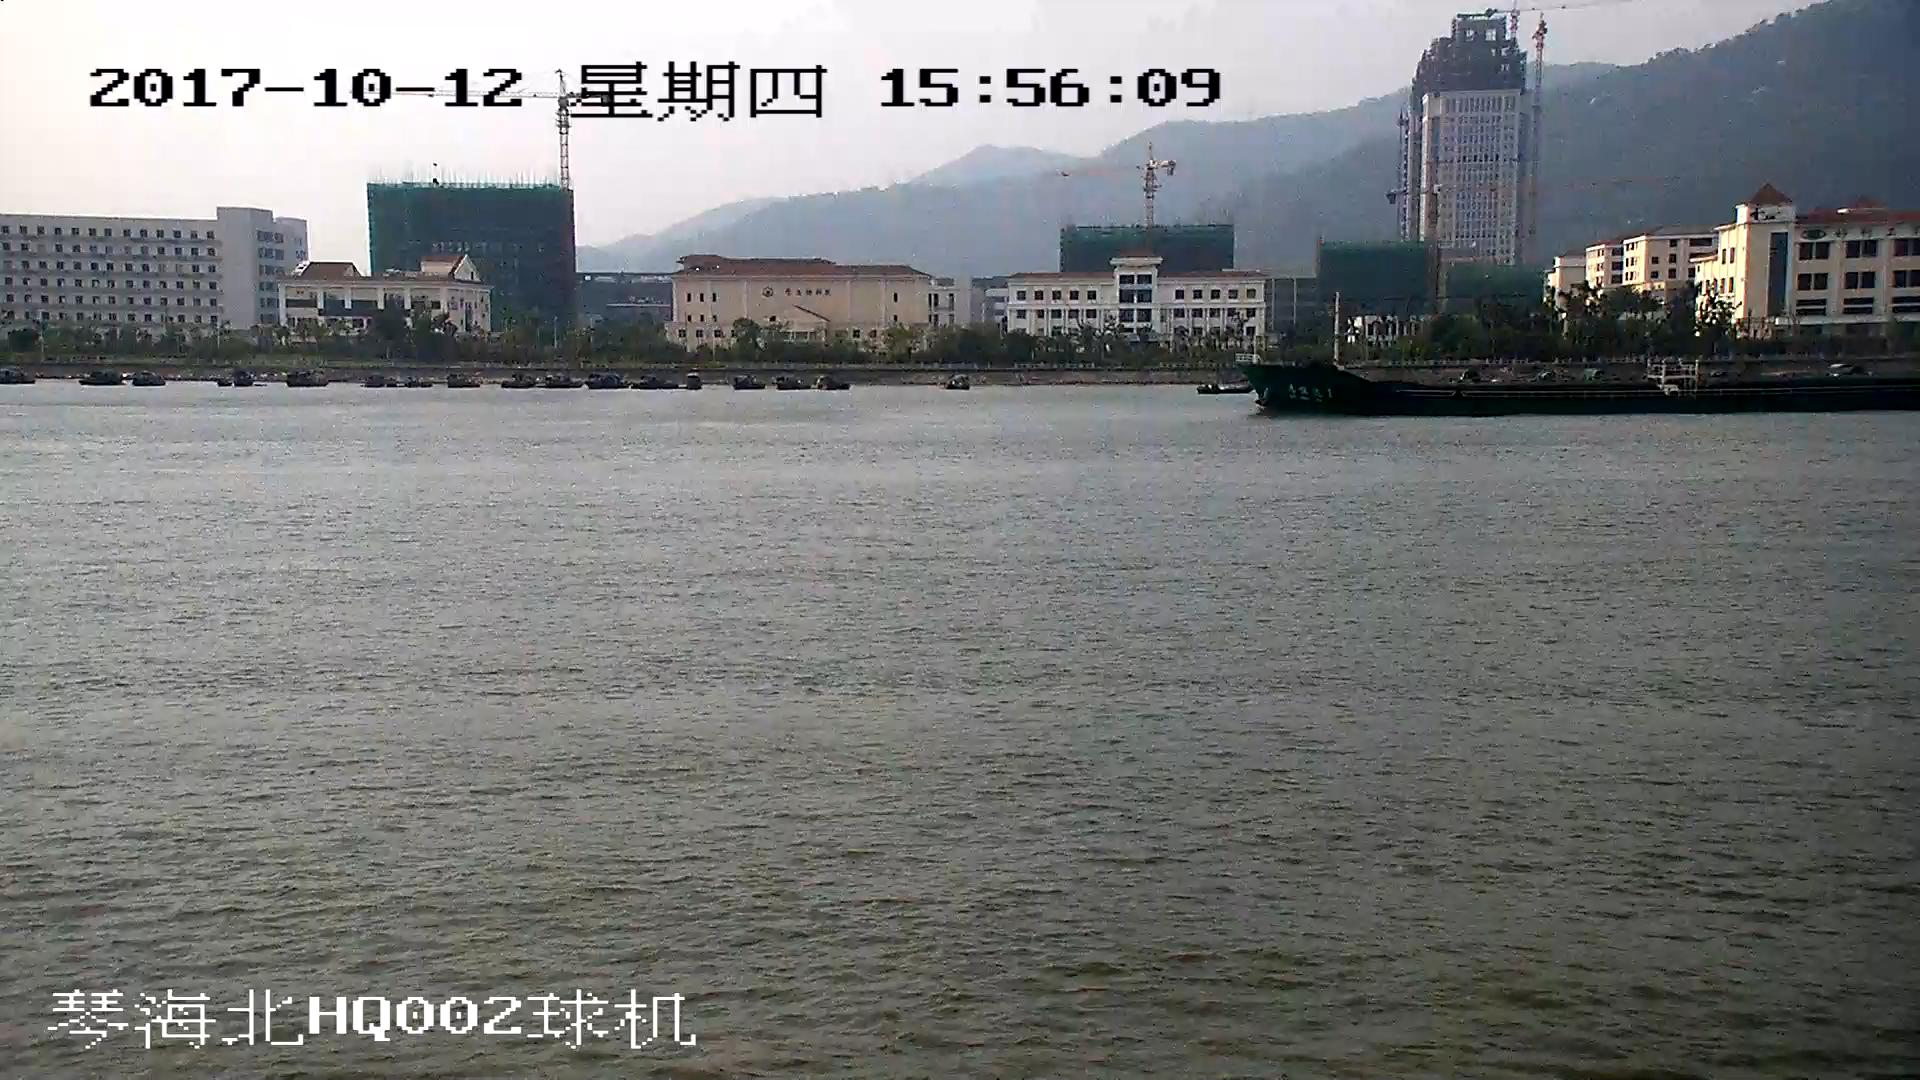general cargo ship: (1236, 304, 1920, 415)
